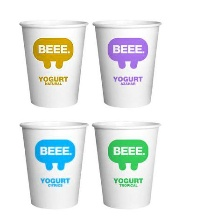paper_cup: (14, 14, 90, 111), (90, 15, 165, 112), (88, 116, 163, 212), (15, 116, 89, 211)
